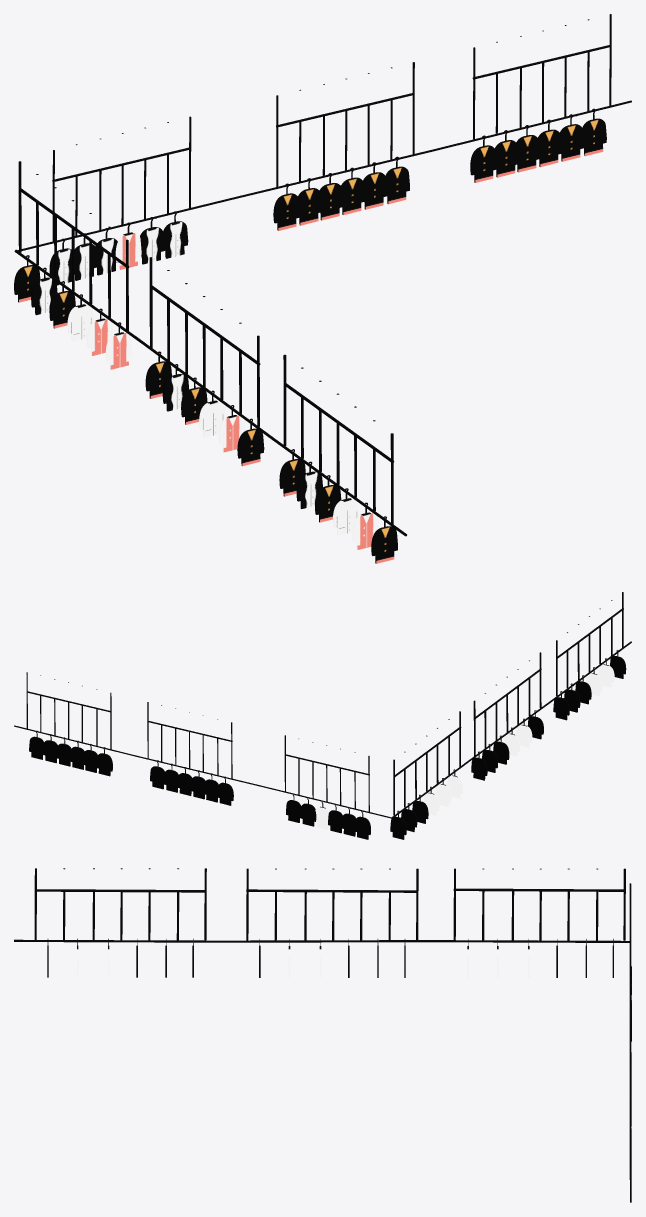
Rendered from 1123服装厂衣架 拆分.fbx.
The picture shows the model from 3 angles, top to bottom: view 1: azimuth 30°, elevation 25°; view 2: azimuth 150°, elevation 25°; view 3: azimuth 270°, elevation 25°; orthographic projection. The views are drawn at different scales.
Parts seen in each view (by area): view 1: 衣架, 衣服_5, 衣服_29, 衣服_36, 衣服_15, 衣服_42, 衣服_28, 衣服_33, 衣服_39, 衣服_35, 衣服_37, 衣服_32 (+19 smaller); view 2: 衣架; view 3: 衣架.
Part boxes in pixels (x1,y1,x2,y2): 衣架: [14, 14, 631, 536]; 衣服_5: [105, 322, 132, 369]; 衣服_29: [273, 183, 300, 230]; 衣服_36: [470, 135, 496, 182]; 衣服_15: [237, 418, 264, 466]; 衣服_42: [371, 516, 397, 563]; 衣服_28: [162, 211, 188, 258]; 衣服_33: [339, 167, 365, 215]; 衣服_39: [536, 119, 561, 167]; 衣服_35: [384, 156, 409, 204]; 衣服_37: [493, 130, 518, 177]; 衣服_32: [317, 173, 343, 220]; 衣架: [14, 592, 631, 818]; 衣架: [14, 868, 631, 1180].
Bounding box in the file's own units: 1543 × 321 × 1662.
